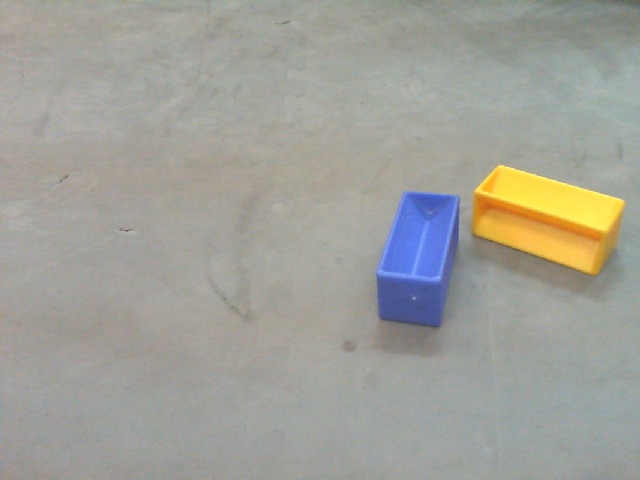BlueSample: (373, 187, 460, 335)
YellowSample: (466, 161, 627, 280)
